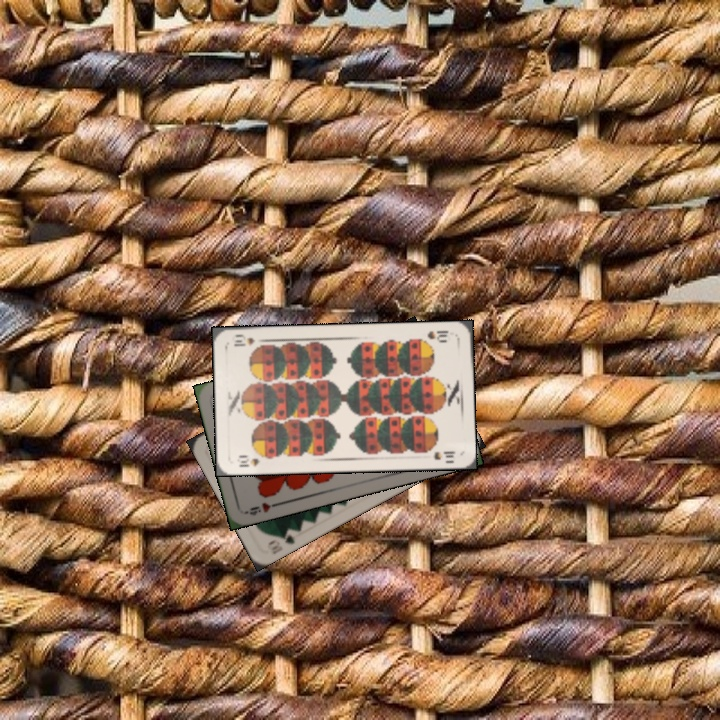G10: (263, 525, 298, 557)
H9: (242, 498, 282, 518)
S10: (234, 450, 271, 469), (423, 326, 451, 344)
